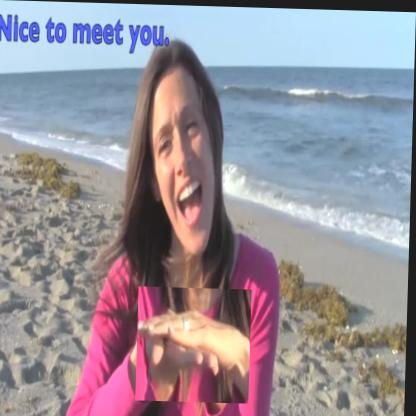NiceToMeetYou: (138, 285, 253, 402)
